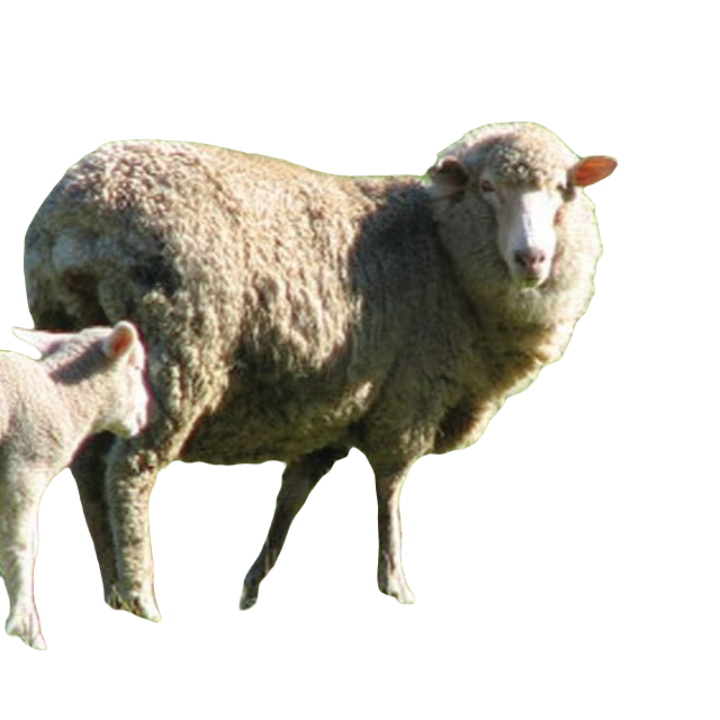Sheep: (17, 114, 624, 626)
